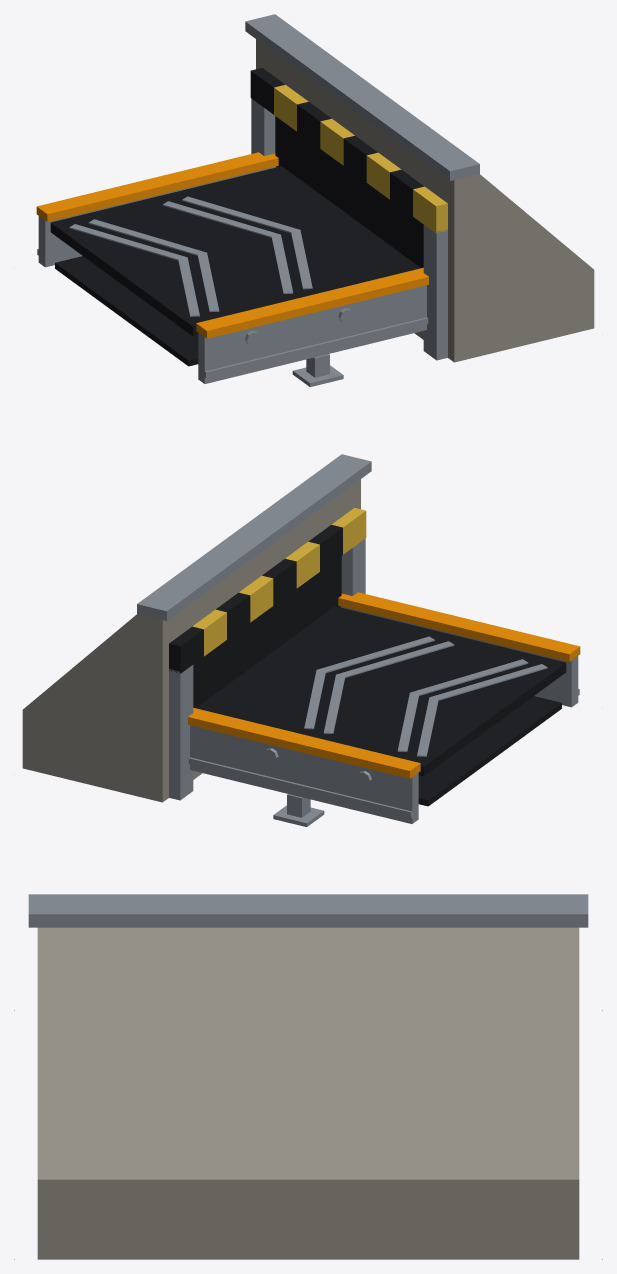
The model's file is convoyeur_tunnel_entree_t2.glb.
The picture shows the model from 3 angles, top to bottom: view 1: azimuth 30°, elevation 25°; view 2: azimuth 150°, elevation 25°; view 3: azimuth 270°, elevation 25°; orthographic projection. The views are drawn at different scales.
Parts seen in each view (by area): view 1: pieces_noir.030, pieces_acier.054, bouche.012, pieces_rive_t2.006, bande_acier.048, pieces_jaune.024; view 2: pieces_noir.030, pieces_acier.054, bouche.012, pieces_rive_t2.006, bande_acier.048, pieces_jaune.024; view 3: bouche.012, pieces_acier.054.
Part boxes in pixels (x1,y1,x2,y2): pieces_noir.030: (50, 68, 424, 366); pieces_acier.054: (37, 14, 479, 386); bouche.012: (256, 39, 594, 362); pieces_rive_t2.006: (36, 152, 428, 338); bande_acier.048: (69, 196, 312, 316); pieces_jaune.024: (274, 85, 447, 233); pieces_noir.030: (169, 525, 566, 806); pieces_acier.054: (137, 454, 579, 826); bouche.012: (22, 479, 360, 802); pieces_rive_t2.006: (188, 592, 580, 778); bande_acier.048: (304, 636, 547, 756); pieces_jaune.024: (192, 508, 366, 656); bouche.012: (37, 927, 579, 1259); pieces_acier.054: (28, 894, 588, 927).
Size of the model in its own units: 1 by 0.5 by 1.
